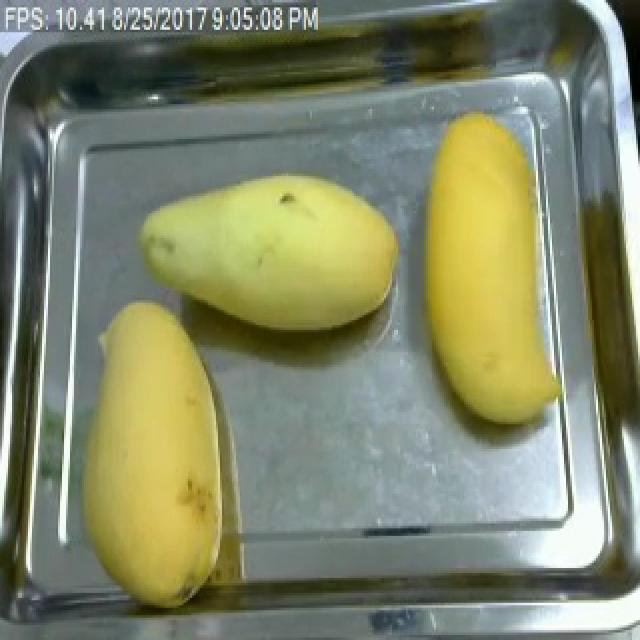fruit: (60, 288, 252, 622), (400, 90, 580, 442), (126, 159, 412, 345)
